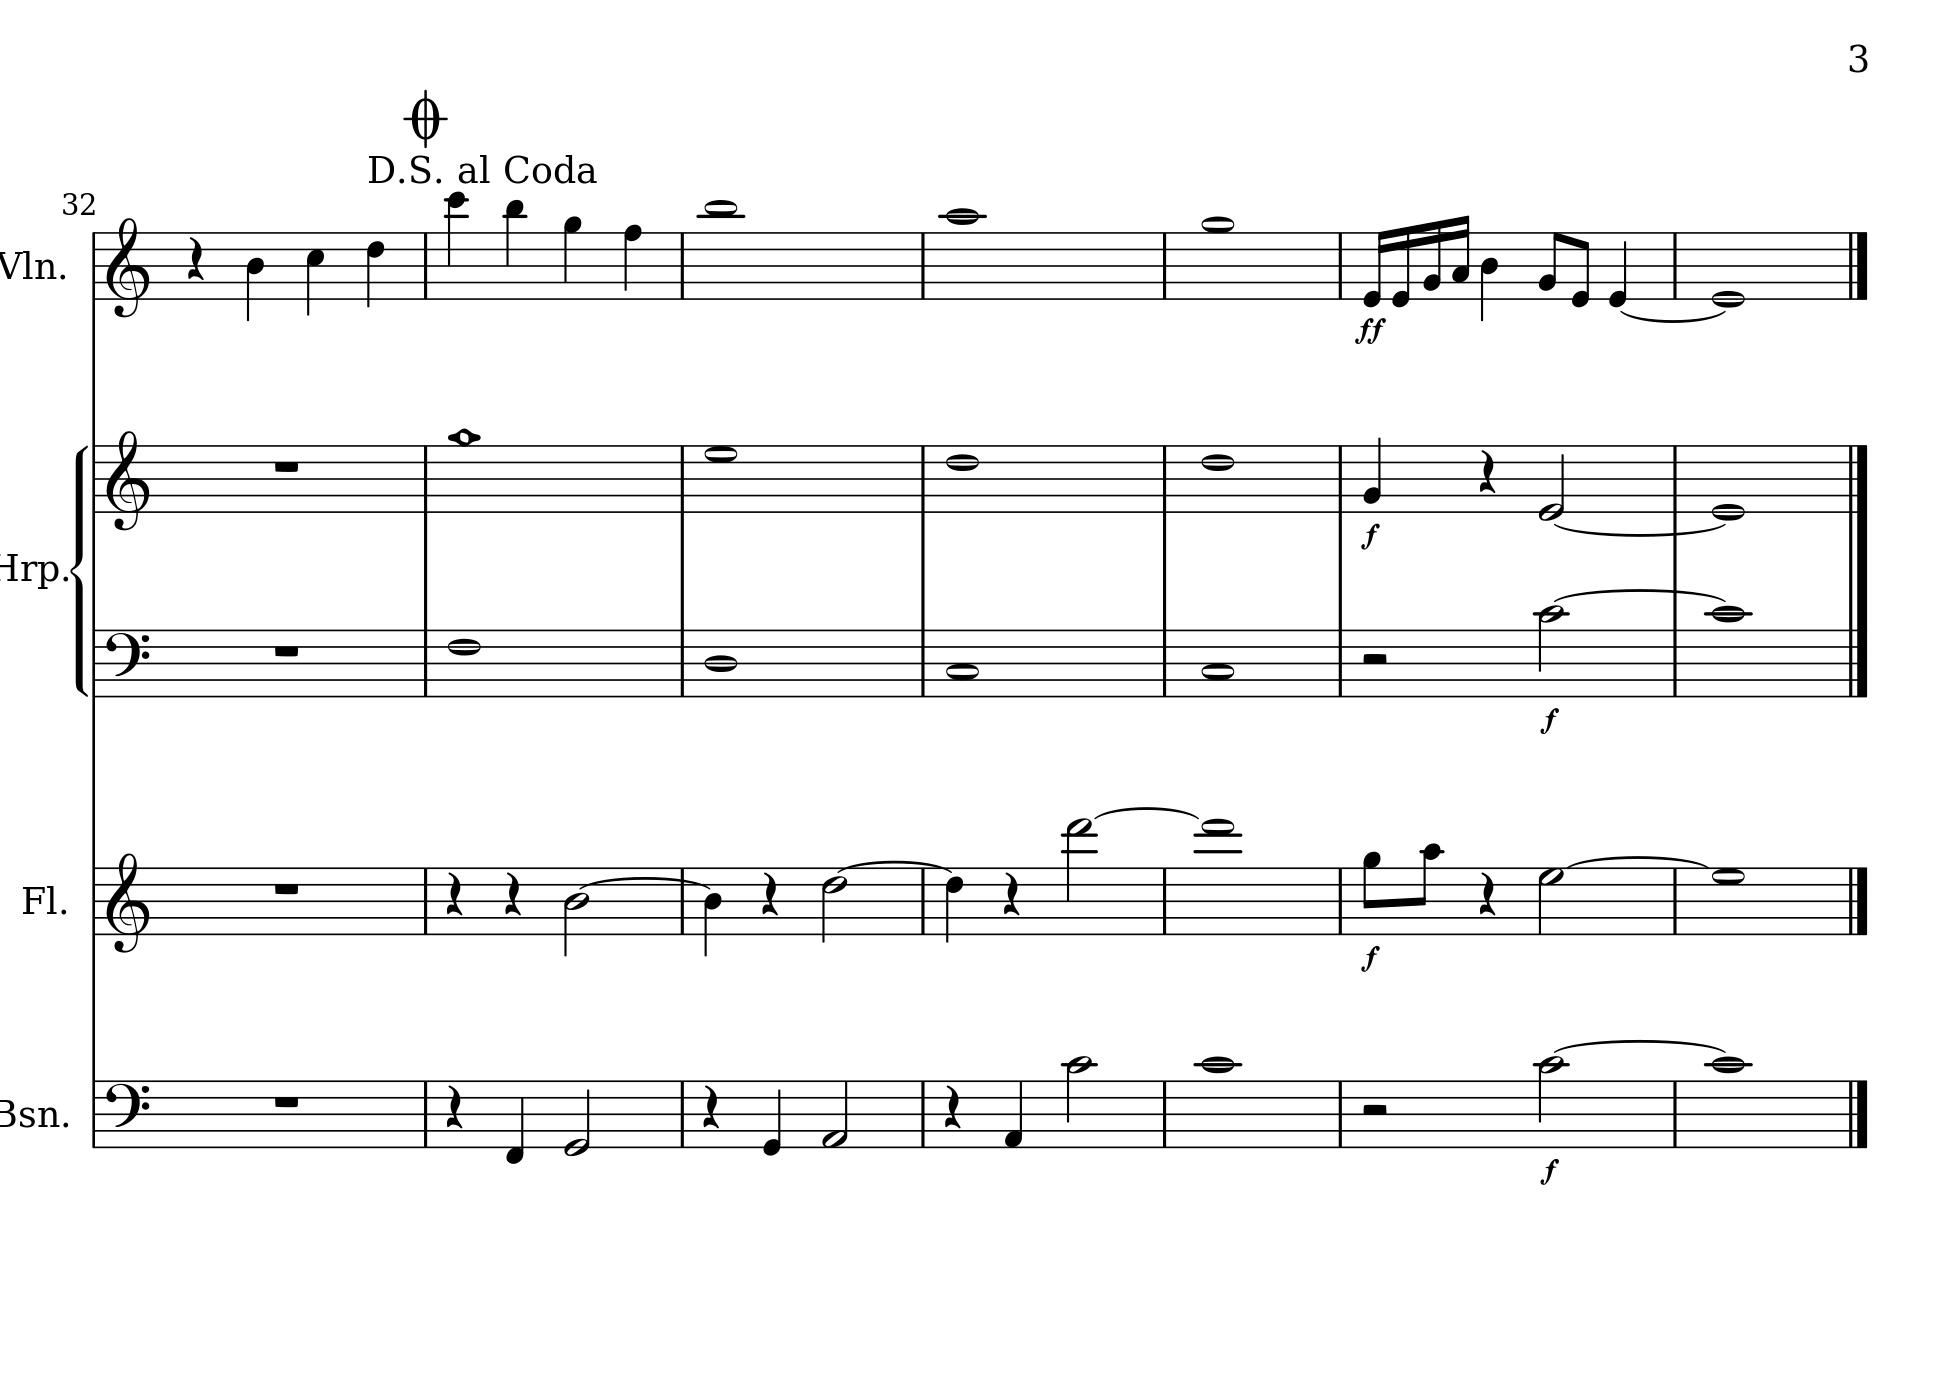16_0: (1359, 228, 1389, 307), (1390, 223, 1413, 309)
16_2: (1422, 217, 1443, 301)
16_3: (1450, 213, 1470, 300)
1_0: (1710, 226, 1747, 309), (1710, 439, 1746, 522)
1_10: (1708, 1054, 1749, 1150), (942, 208, 982, 301), (1708, 604, 1747, 700), (1198, 1054, 1237, 1150)
1_11: (700, 196, 739, 301)
1_13: (1194, 817, 1237, 937)
1_3: (1201, 625, 1236, 699), (946, 627, 979, 699)
1_4: (703, 625, 739, 699)
1_6: (945, 442, 981, 516), (1200, 442, 1236, 514), (447, 627, 481, 699)
1_7: (703, 442, 739, 516), (1711, 865, 1747, 937)
1_8: (1200, 216, 1236, 301)
2: (78, 190, 97, 217)
2_0: (1536, 442, 1567, 523), (562, 1077, 591, 1158)
2_1: (820, 1077, 850, 1149)
2_10: (1063, 1053, 1096, 1150), (1536, 603, 1567, 700), (1536, 1053, 1566, 1149)
2_13: (1062, 816, 1096, 937)
2_4: (562, 865, 591, 957)
2_6: (820, 865, 847, 943)
2_7: (1536, 865, 1564, 936)
3: (1848, 40, 1870, 75), (61, 190, 78, 216)
4_-1: (502, 1077, 526, 1164)
4_0: (760, 1078, 784, 1156), (1608, 229, 1630, 309)
4_1: (1002, 1078, 1026, 1150)
4_11: (502, 196, 526, 300)
4_12: (442, 190, 471, 301)
4_2: (1362, 433, 1386, 514)
4_4: (702, 865, 724, 957), (244, 229, 265, 322), (1479, 229, 1500, 322)
4_5: (304, 229, 325, 316)
4_6: (364, 229, 385, 309), (943, 865, 964, 943)
4_8: (622, 222, 646, 301)
4_9: (562, 214, 583, 301)
8_0: (1569, 229, 1591, 309)
8_10: (1410, 841, 1443, 934)
8_2: (1536, 229, 1563, 300)
8_9: (1362, 849, 1383, 936)
Brace: (69, 439, 88, 696)
Bsn: (1, 1093, 58, 1132)
Coda: (403, 88, 447, 145)
DSalcoda: (363, 151, 601, 187)
Fclef: (105, 1078, 151, 1149), (103, 628, 151, 682)
Final_barline: (1842, 444, 1870, 511), (1843, 229, 1870, 298), (1842, 628, 1869, 696), (1845, 865, 1872, 933), (1845, 1078, 1870, 1147)
Fl: (18, 880, 58, 919)
Gclef: (103, 849, 151, 955), (103, 214, 151, 319), (103, 427, 150, 531)
Hrp: (1, 549, 60, 589)
Rests1: (270, 640, 303, 660), (270, 877, 301, 897), (270, 1090, 301, 1110), (270, 457, 303, 474)
Rests2: (1359, 1099, 1392, 1120), (1359, 649, 1392, 667)
Rests4: (1476, 447, 1500, 496), (499, 868, 523, 918), (757, 870, 781, 919), (999, 870, 1023, 919), (442, 870, 466, 918), (697, 1083, 721, 1131), (183, 234, 205, 282), (1476, 870, 1498, 918), (940, 1083, 963, 1131), (442, 1083, 465, 1129)
Single_barline: (1665, 444, 1684, 528), (913, 868, 933, 933), (1156, 231, 1174, 298), (1332, 231, 1350, 298), (1156, 1078, 1174, 1146), (1332, 1078, 1350, 1146), (673, 1080, 691, 1147), (913, 1080, 931, 1147), (417, 232, 435, 298), (673, 232, 691, 298), (913, 232, 931, 298), (415, 445, 433, 511), (673, 445, 691, 511), (913, 445, 931, 511), (1156, 445, 1174, 511), (1332, 445, 1350, 511), (417, 628, 435, 694), (673, 628, 691, 694), (913, 628, 931, 694), (1666, 628, 1684, 694), (1332, 867, 1350, 933), (1666, 867, 1684, 933), (1155, 630, 1173, 694), (1666, 1080, 1684, 1144), (675, 865, 691, 933), (1666, 232, 1683, 298), (1332, 628, 1348, 694), (417, 867, 433, 933), (1156, 867, 1173, 933), (417, 1080, 433, 1146), (87, 865, 102, 934), (87, 231, 102, 298), (87, 1080, 100, 1147), (88, 445, 102, 511), (88, 630, 102, 696)
Slur: (1552, 586, 1729, 603), (1555, 522, 1728, 538), (1554, 1039, 1734, 1054), (576, 874, 705, 892), (1566, 856, 1705, 871), (834, 858, 955, 873), (1095, 805, 1200, 819), (1620, 310, 1728, 322)
Vln: (1, 244, 57, 286)
f: (1537, 706, 1563, 735), (1357, 943, 1383, 972), (1359, 520, 1383, 550), (1537, 1156, 1561, 1185)
ff: (1353, 315, 1387, 346)
